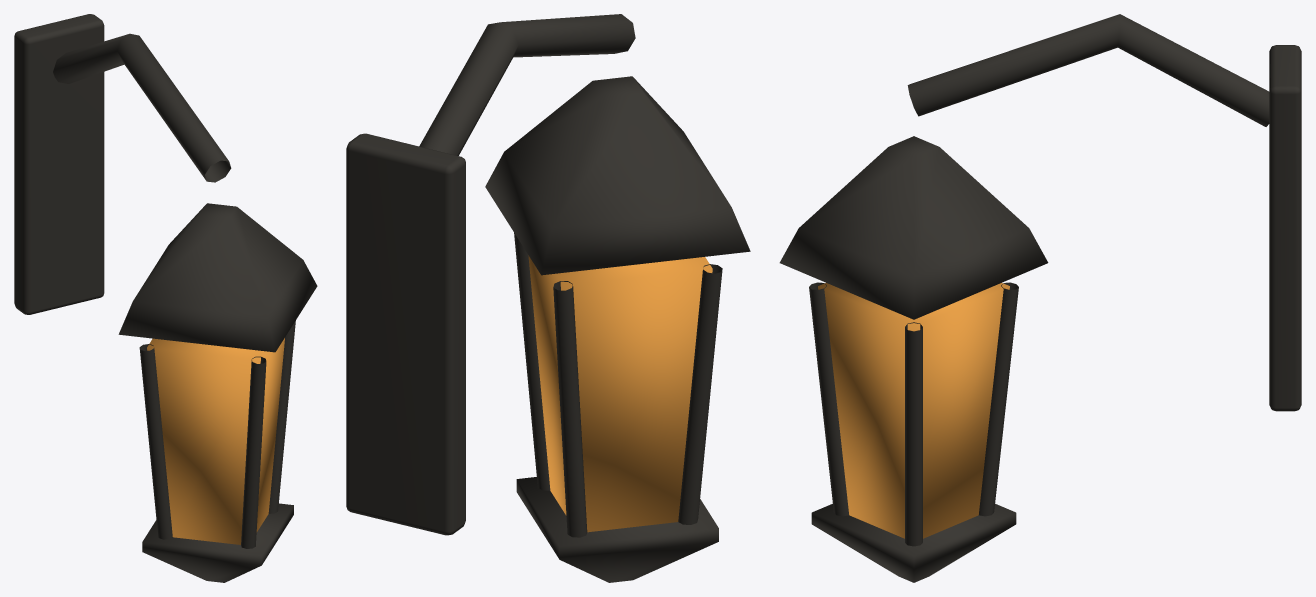
The model's file is entrance_lantern.glb.
3 renders of one model, left to right at view 1: azimuth 30°, elevation 25°; view 2: azimuth 150°, elevation 25°; view 3: azimuth 270°, elevation 25°, orthographic. The views are drawn at different scales.
Parts seen in each view (by area): view 1: ForgedIronSurface, LanternGlassSurface; view 2: ForgedIronSurface, LanternGlassSurface; view 3: ForgedIronSurface, LanternGlassSurface.
Boxes of the visible parts, left/top/right/bottom form: ForgedIronSurface: left=14, top=14, right=317, bottom=582; LanternGlassSurface: left=147, top=338, right=284, bottom=544; ForgedIronSurface: left=346, top=14, right=750, bottom=582; LanternGlassSurface: left=528, top=255, right=712, bottom=532; ForgedIronSurface: left=779, top=14, right=1301, bottom=582; LanternGlassSurface: left=818, top=283, right=1009, bottom=538.
Bounding box in the file's own units: 0.21 × 0.4839 × 0.4075.
